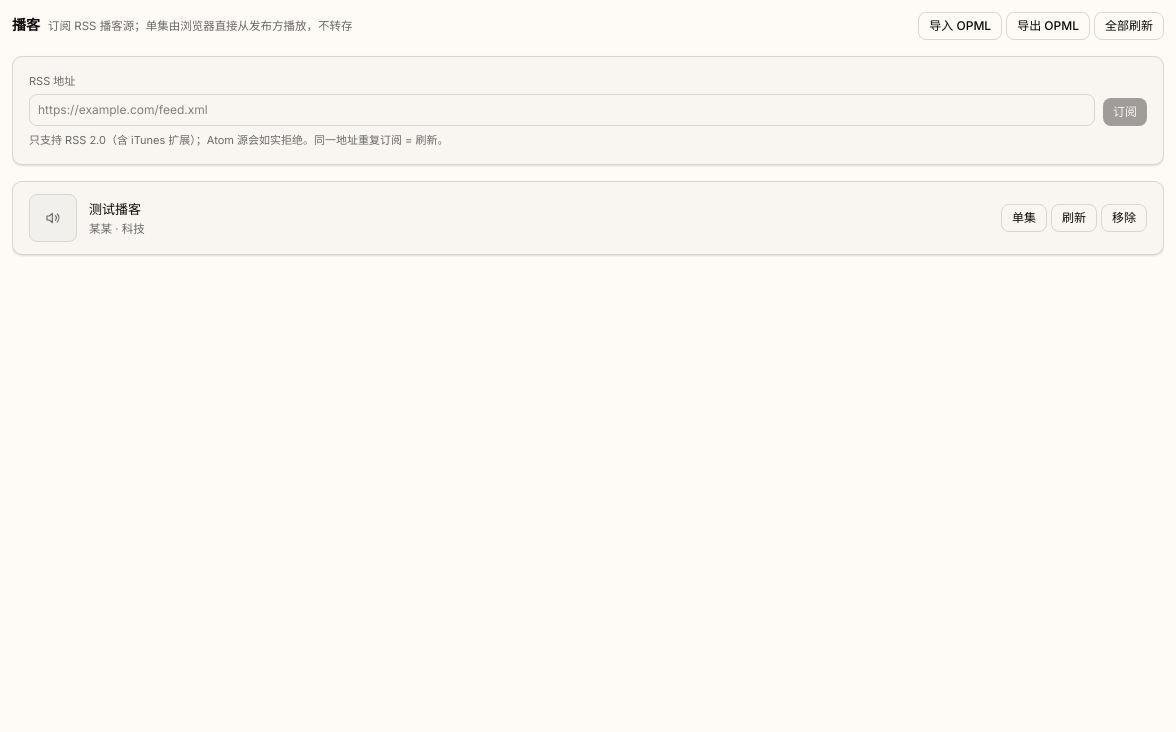
Test: PodcastsView › 下载：点“下载”调后端；已下载的单集播放本地地址
Click the button "单集". click: (1024, 218)
box: 1001,204 -> 1047,232
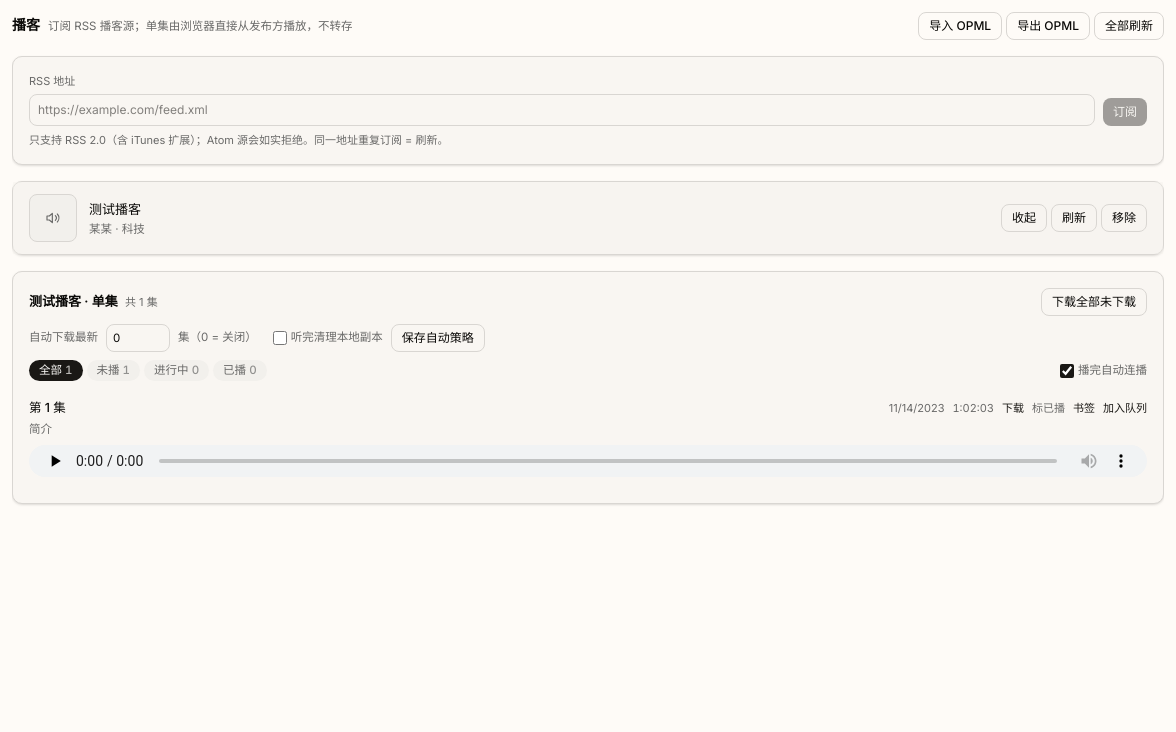
Click the button "下载". click: (1013, 409)
box: 1002,400 -> 1024,417
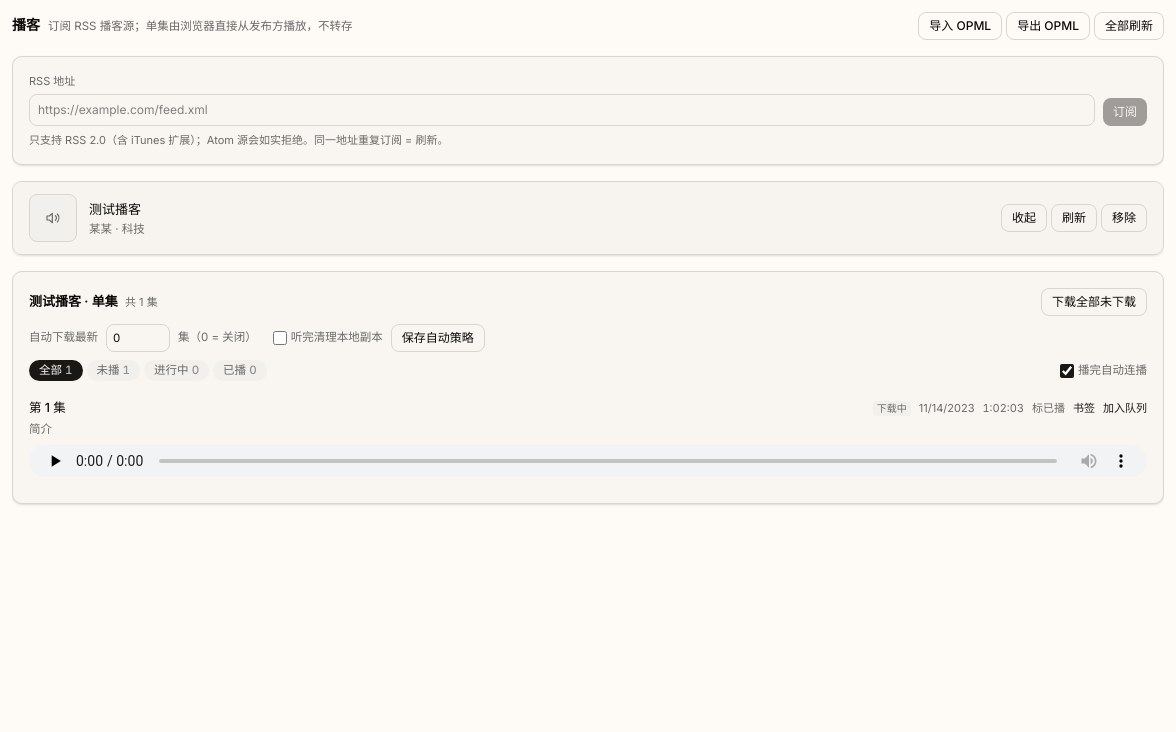
Note: 第一次点了「单集」后按钮变「收起」—— 再点一次重新拉取单集
Click the button "收起". click: (1024, 218)
box: 1001,204 -> 1047,232
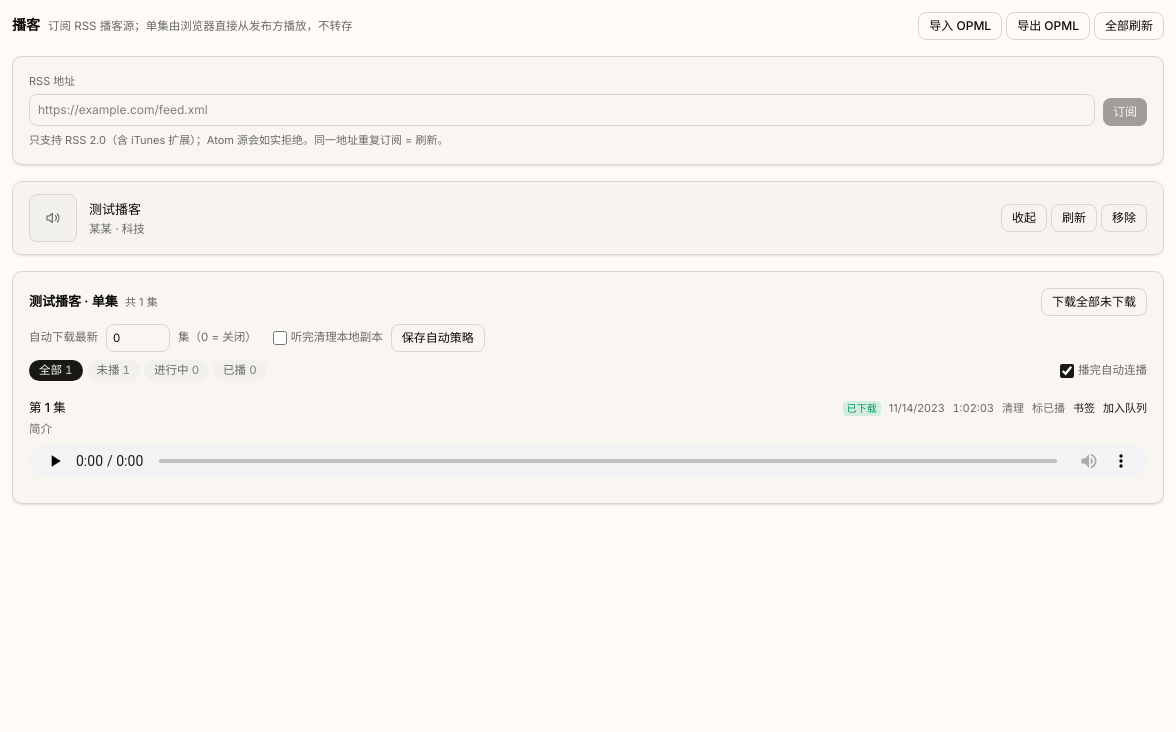
Check: the text "已下载" is shown, box 843,401 -> 881,416
